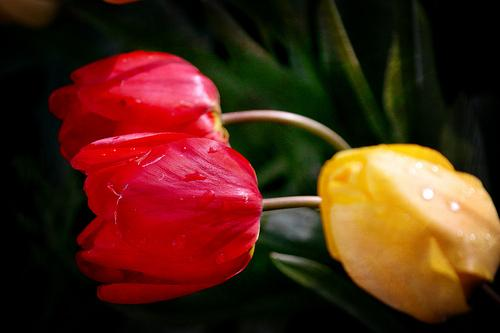tulip: (69, 133, 263, 300), (319, 143, 500, 319), (50, 49, 223, 161)
